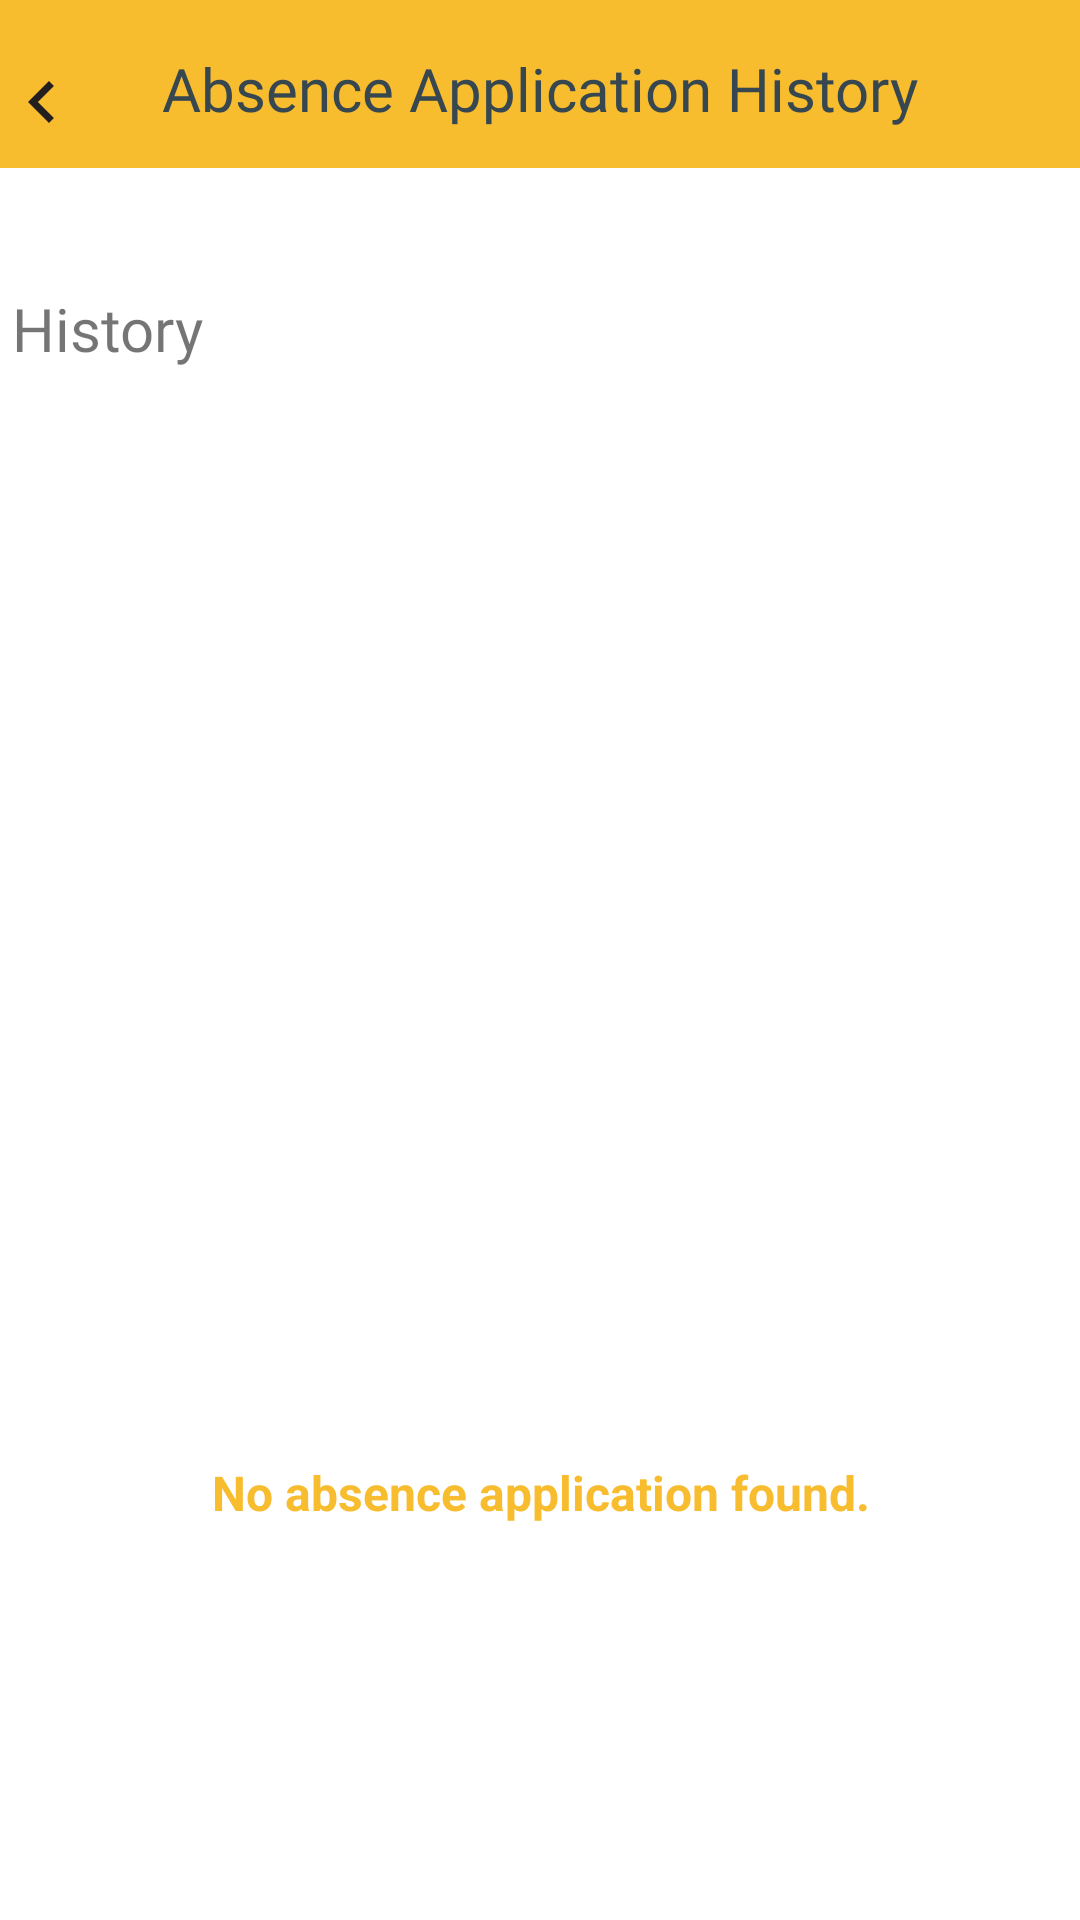

Where icons sit on this 1080 × 1920 app screen, as region(x1, y1, x2, y2):
Back: region(28, 81, 54, 123)
